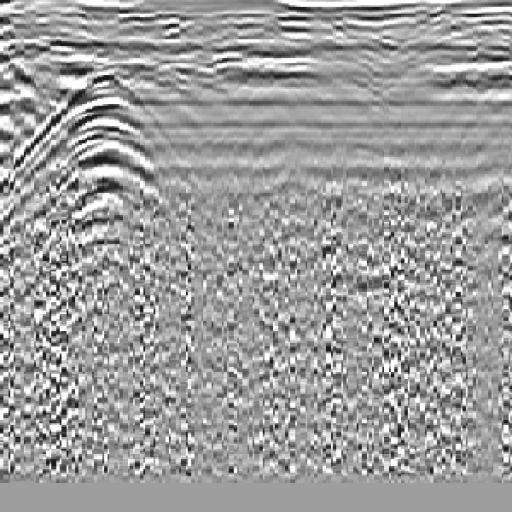metalic: (1, 66, 191, 270)
